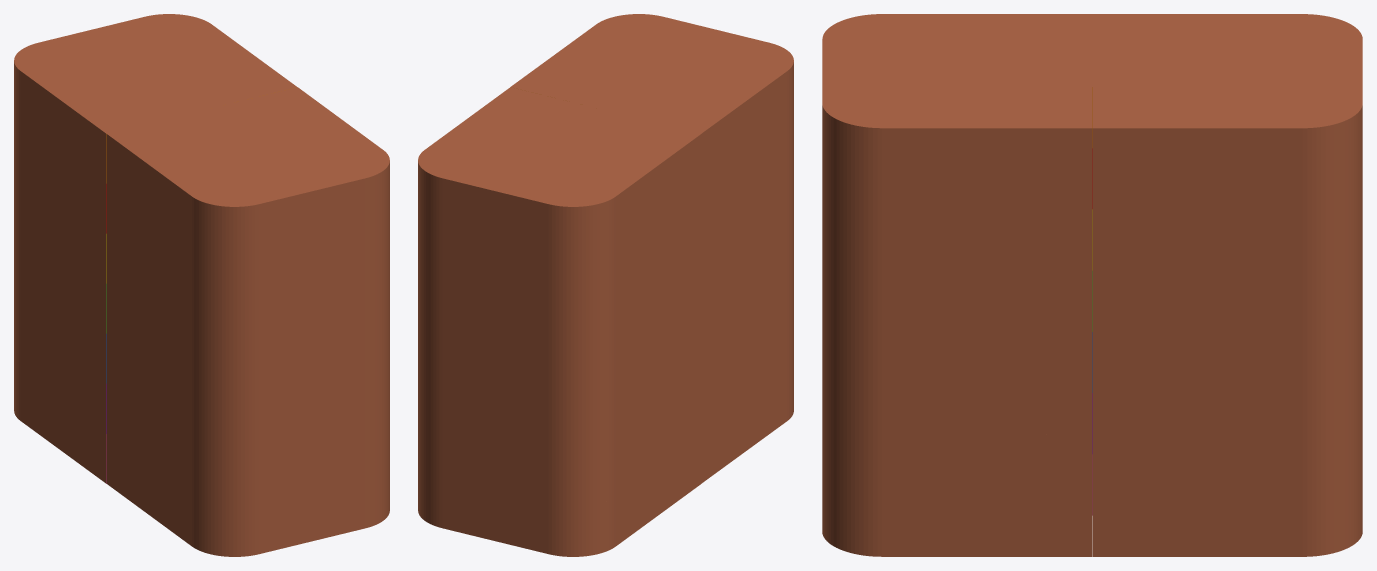
File: cake7.fbx
3 views of the same model, side by side, from view 1: azimuth 30°, elevation 25°; view 2: azimuth 150°, elevation 25°; view 3: azimuth 270°, elevation 25° (orthographic). The views are drawn at different scales.
Parts seen in each view (by area): view 1: Cube.006, Cube.013, Cube.003, Cube.004, Cube.005, Cube, Cube.001, Cube.002, Cube.009, Cube.010, Cube.011, Cube.012 (+2 smaller); view 2: Cube.013, Cube.006, Cube.008, Cube.011, Cube.007, Cube.012, Cube.009, Cube.010, Cube.003, Cube.002, Cube.004, Cube.005 (+2 smaller); view 3: Cube.013, Cube.006, Cube.001, Cube.002, Cube.004, Cube.005, Cube, Cube.003, Cube.008, Cube.007, Cube.009, Cube.011 (+2 smaller).
Part boxes in pixels (x1,y1,x2,y2): Cube.006: [106, 87, 389, 256]; Cube.013: [14, 14, 297, 183]; Cube.003: [106, 284, 389, 406]; Cube.004: [106, 234, 389, 356]; Cube.005: [106, 184, 389, 306]; Cube: [106, 434, 389, 556]; Cube.001: [106, 384, 389, 506]; Cube.002: [106, 334, 389, 456]; Cube.009: [14, 261, 106, 383]; Cube.010: [14, 211, 106, 333]; Cube.011: [14, 161, 106, 283]; Cube.012: [14, 111, 106, 233]; Cube.013: [418, 87, 701, 256]; Cube.006: [510, 14, 793, 182]; Cube.008: [418, 384, 701, 506]; Cube.011: [418, 234, 701, 356]; Cube.007: [418, 434, 701, 556]; Cube.012: [418, 184, 701, 306]; Cube.009: [418, 334, 701, 456]; Cube.010: [418, 284, 701, 406]; Cube.003: [701, 212, 793, 332]; Cube.002: [701, 262, 793, 382]; Cube.004: [701, 162, 793, 282]; Cube.005: [701, 112, 793, 232]; Cube.013: [1092, 14, 1362, 189]; Cube.006: [822, 14, 1092, 189]; Cube.001: [822, 393, 1092, 495]; Cube.002: [822, 332, 1092, 434]; Cube.004: [822, 209, 1092, 311]; Cube.005: [822, 148, 1092, 250]; Cube: [822, 454, 1092, 556]; Cube.003: [822, 271, 1092, 373]; Cube.008: [1092, 411, 1362, 495]; Cube.007: [1092, 473, 1362, 556]; Cube.009: [1092, 350, 1362, 434]; Cube.011: [1092, 228, 1362, 311].
Size of the model in its own units: 200 by 350 by 400.
